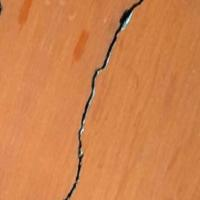crack: (60, 0, 147, 199)
